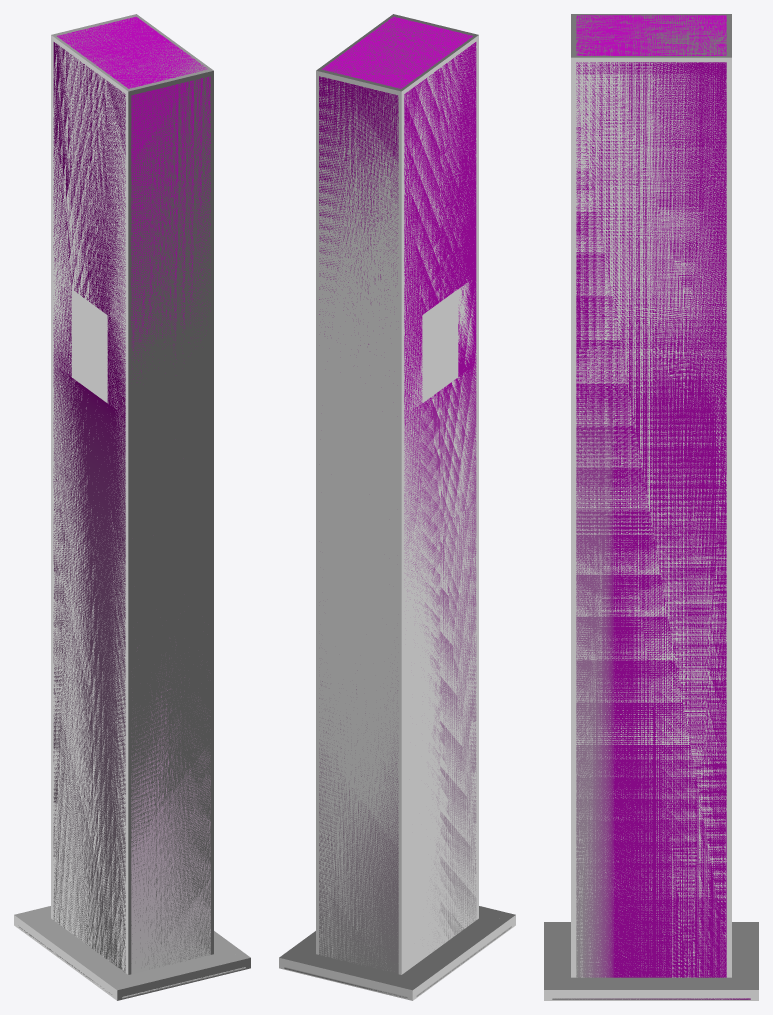
The picture shows the model from 3 angles, left to right: view 1: azimuth 30°, elevation 25°; view 2: azimuth 150°, elevation 25°; view 3: azimuth 270°, elevation 25°; orthographic projection. The views are drawn at different scales.
Parts seen in each view (by area): view 1: SM_Panel_Metal_01a_ConvexHulls, SM_Panel_Metal_01a; view 2: SM_Panel_Metal_01a_ConvexHulls, SM_Panel_Metal_01a; view 3: SM_Panel_Metal_01a, SM_Panel_Metal_01a_ConvexHulls.
Part boxes in pixels (x1,y1,x2,y2): SM_Panel_Metal_01a_ConvexHulls: [14, 14, 250, 1000]; SM_Panel_Metal_01a: [19, 16, 245, 998]; SM_Panel_Metal_01a_ConvexHulls: [279, 14, 515, 1000]; SM_Panel_Metal_01a: [284, 16, 511, 997]; SM_Panel_Metal_01a: [552, 15, 750, 999]; SM_Panel_Metal_01a_ConvexHulls: [544, 14, 758, 1000].
Bounding box in the file's own units: 22.44 × 30 × 143.
